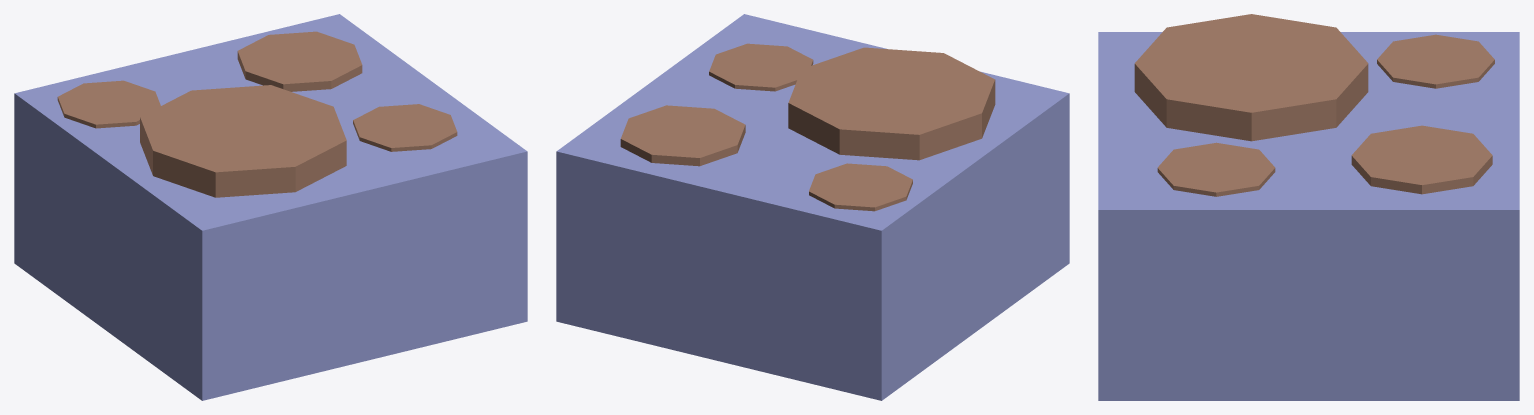
Rendered from path2.fbx.
3 views of the same model, side by side, from view 1: azimuth 30°, elevation 25°; view 2: azimuth 150°, elevation 25°; view 3: azimuth 270°, elevation 25° (orthographic). The views are drawn at different scales.
Visible parts, largest first — view 1: path2; view 2: path2; view 3: path2.
Part boxes in pixels (left/top/right/bottom): path2: left=14, top=14, right=527, bottom=400; path2: left=556, top=14, right=1069, bottom=400; path2: left=1098, top=14, right=1519, bottom=400.
Size of the model in its own units: 200 by 115 by 200.
